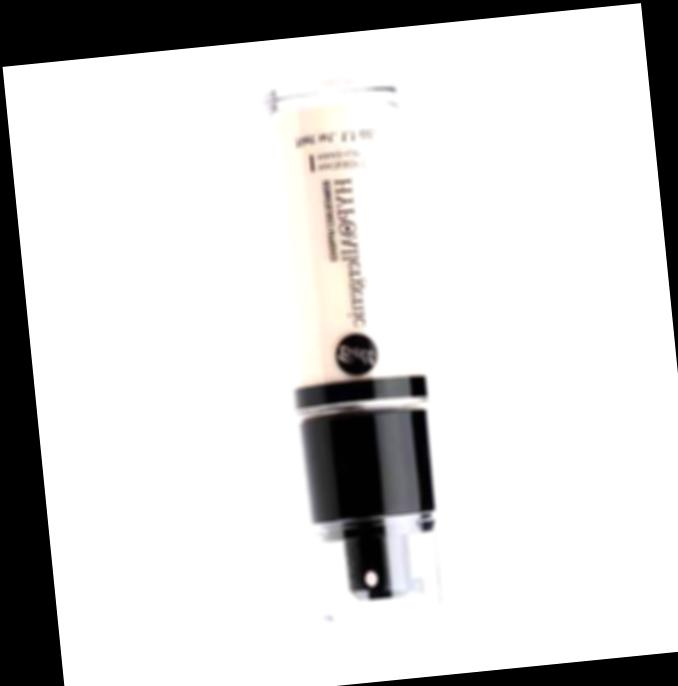cosmetic: (262, 72, 449, 625)
